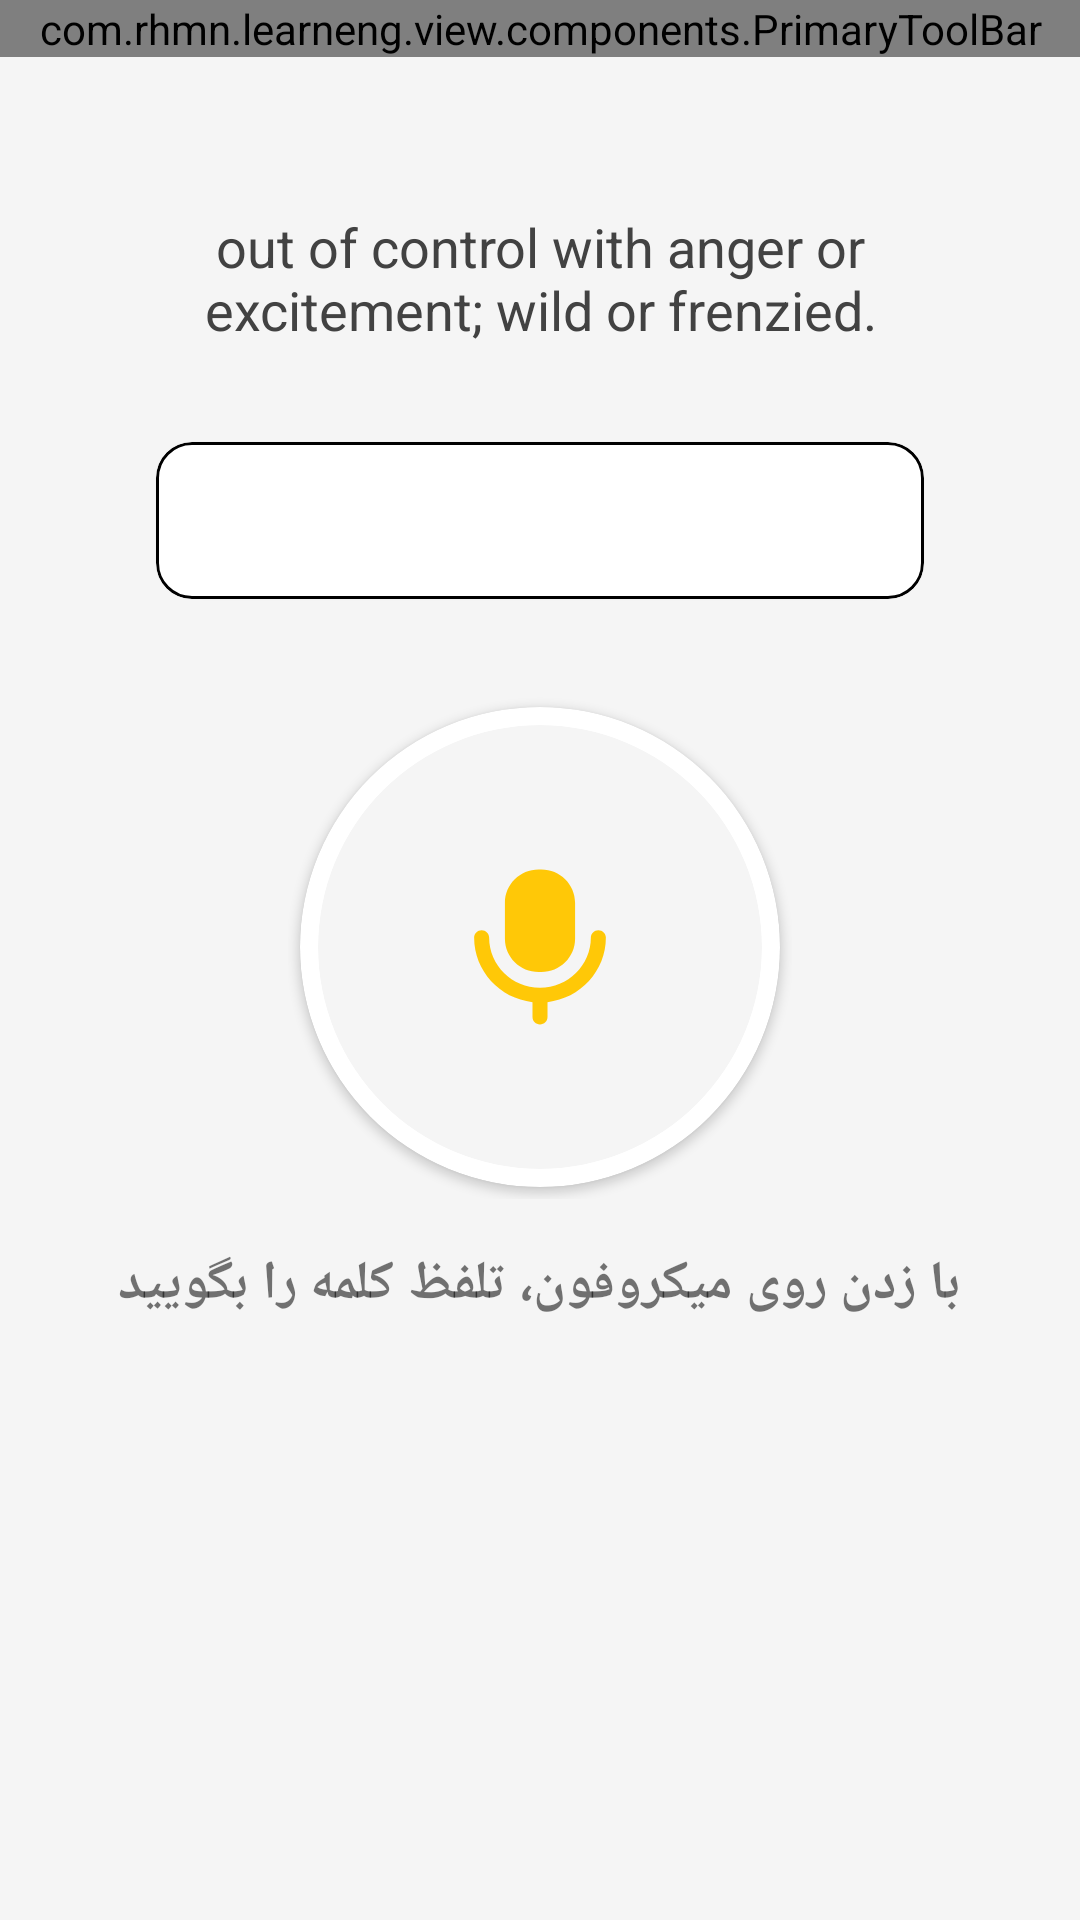

Named icons in this screenshot (1080px×1920px) and their bounding boxes, (x1, y1, x2, y2):
Microphone: (474, 869, 606, 1025)
